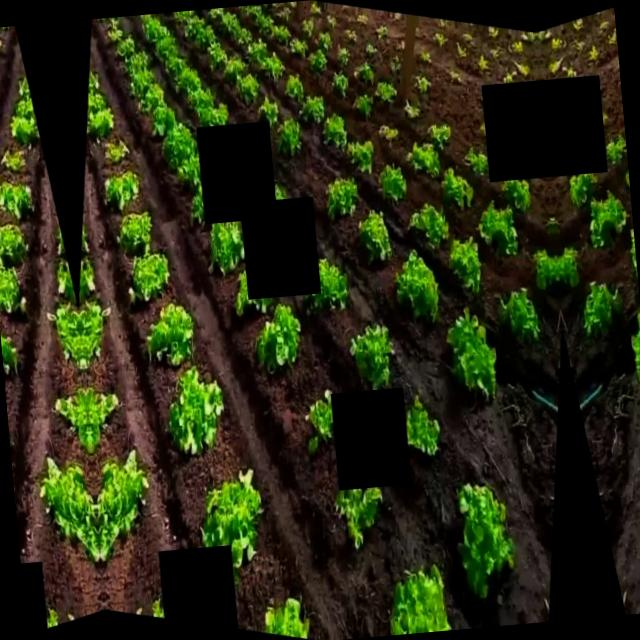healthy: (194, 467, 270, 584), (452, 478, 518, 602), (91, 447, 156, 563), (35, 452, 100, 568), (162, 361, 230, 459), (442, 304, 500, 402), (382, 562, 450, 635), (248, 302, 306, 378), (390, 245, 442, 326), (143, 301, 197, 371), (333, 484, 388, 550), (348, 322, 397, 392), (580, 277, 628, 337), (493, 285, 540, 345), (53, 384, 91, 458), (402, 392, 444, 458), (84, 382, 122, 454), (303, 387, 342, 455), (474, 199, 518, 258), (586, 189, 630, 248), (257, 593, 311, 640), (204, 220, 247, 278), (446, 232, 484, 296), (308, 255, 350, 311), (129, 250, 172, 302), (230, 267, 274, 317), (97, 168, 143, 214), (407, 200, 451, 248), (357, 208, 393, 264), (159, 121, 200, 170), (116, 206, 155, 257), (78, 300, 107, 366), (54, 302, 83, 368), (438, 165, 476, 212), (0, 177, 39, 222), (322, 174, 360, 218), (0, 217, 28, 268), (626, 290, 640, 386), (376, 162, 409, 202), (530, 246, 558, 292), (554, 244, 582, 290), (0, 316, 19, 383), (318, 110, 348, 152), (274, 118, 304, 158), (410, 141, 441, 179), (74, 256, 98, 305), (0, 263, 23, 314), (501, 177, 534, 212), (566, 171, 599, 206), (54, 258, 78, 306), (347, 138, 378, 175), (198, 99, 232, 132), (8, 112, 40, 146), (84, 106, 116, 139), (176, 151, 203, 189), (185, 182, 208, 226), (172, 65, 204, 96), (234, 72, 261, 108), (150, 102, 178, 136), (297, 93, 326, 125), (461, 144, 488, 178), (604, 130, 628, 166), (257, 92, 280, 128), (204, 38, 227, 74), (4, 380, 13, 472), (222, 53, 248, 84), (102, 138, 130, 166), (185, 84, 215, 110), (280, 70, 304, 102), (268, 52, 294, 81), (152, 33, 179, 60), (0, 147, 27, 174), (425, 120, 451, 148), (192, 22, 215, 52), (162, 54, 188, 80), (350, 93, 375, 120), (130, 65, 155, 92), (351, 60, 376, 86), (142, 82, 166, 109), (182, 14, 205, 41), (628, 218, 638, 280), (84, 87, 108, 112), (286, 36, 310, 60), (12, 94, 36, 118), (306, 48, 328, 74), (228, 26, 254, 48), (374, 79, 398, 102), (124, 48, 147, 72), (330, 70, 350, 96), (113, 34, 136, 56), (254, 12, 276, 34), (146, 22, 170, 42), (316, 29, 334, 54), (218, 12, 240, 32), (271, 23, 291, 44), (299, 16, 316, 38), (622, 151, 630, 196), (16, 73, 31, 97), (336, 46, 352, 68), (86, 67, 100, 91), (244, 4, 262, 19)
